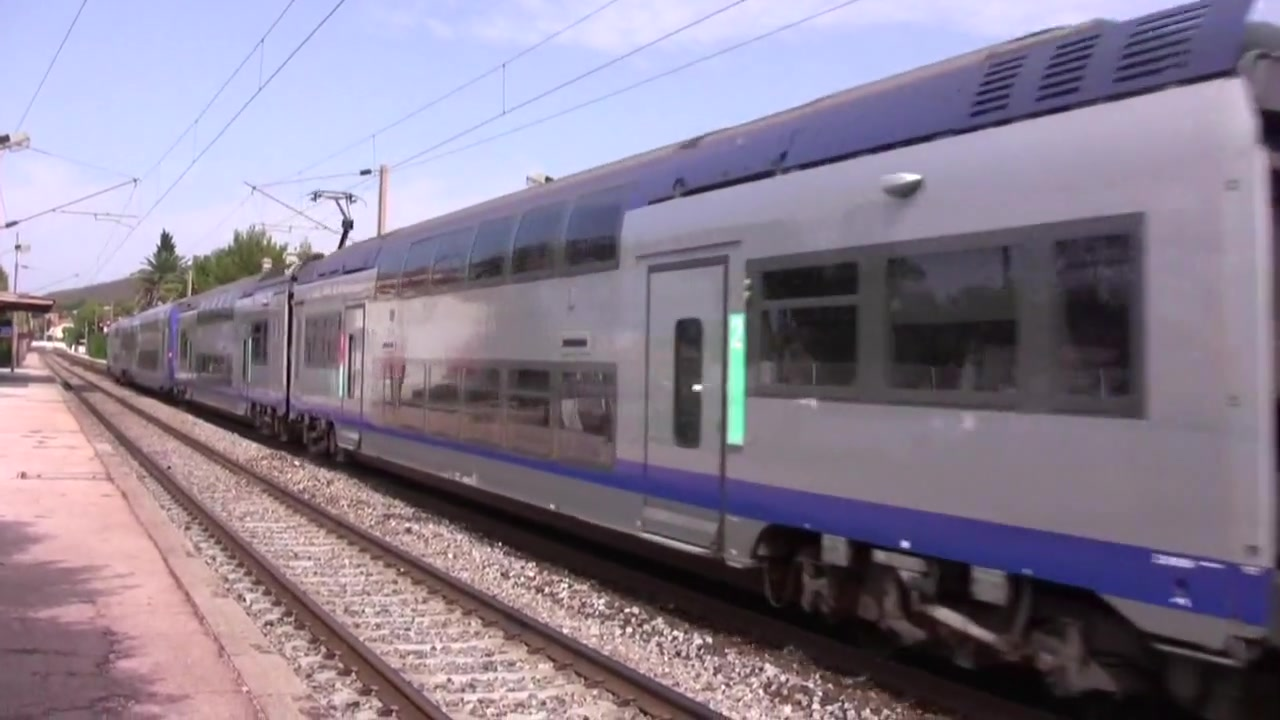train: (104, 1, 1280, 718)
